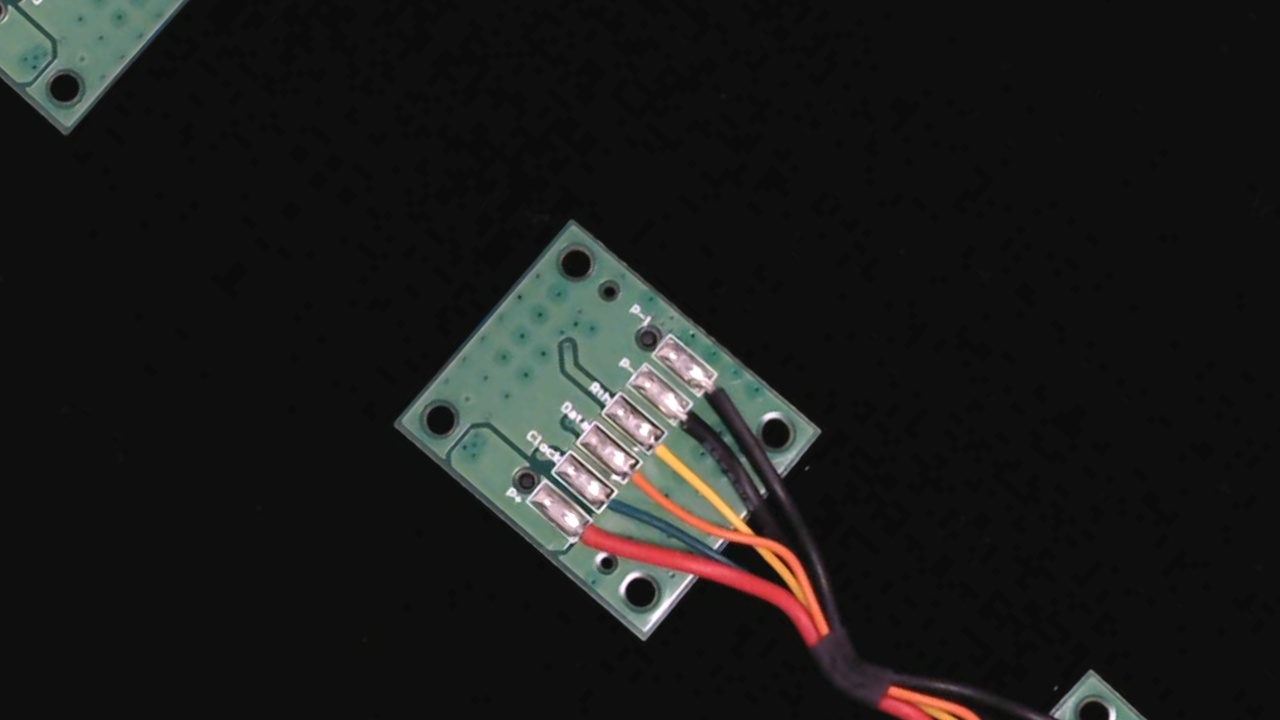Black: (658, 389, 736, 463)
Black1: (685, 361, 758, 430)
Green: (582, 479, 645, 539)
Orange: (611, 451, 684, 521)
Red: (558, 506, 633, 578)
Yellow: (634, 420, 712, 495)
